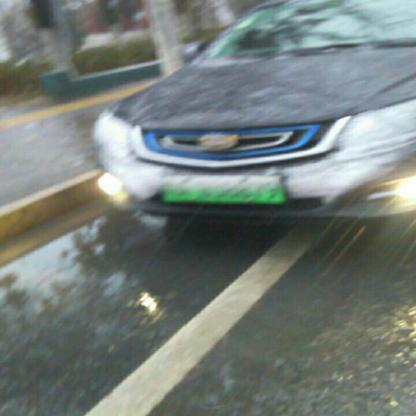lp: (160, 177, 284, 201)
